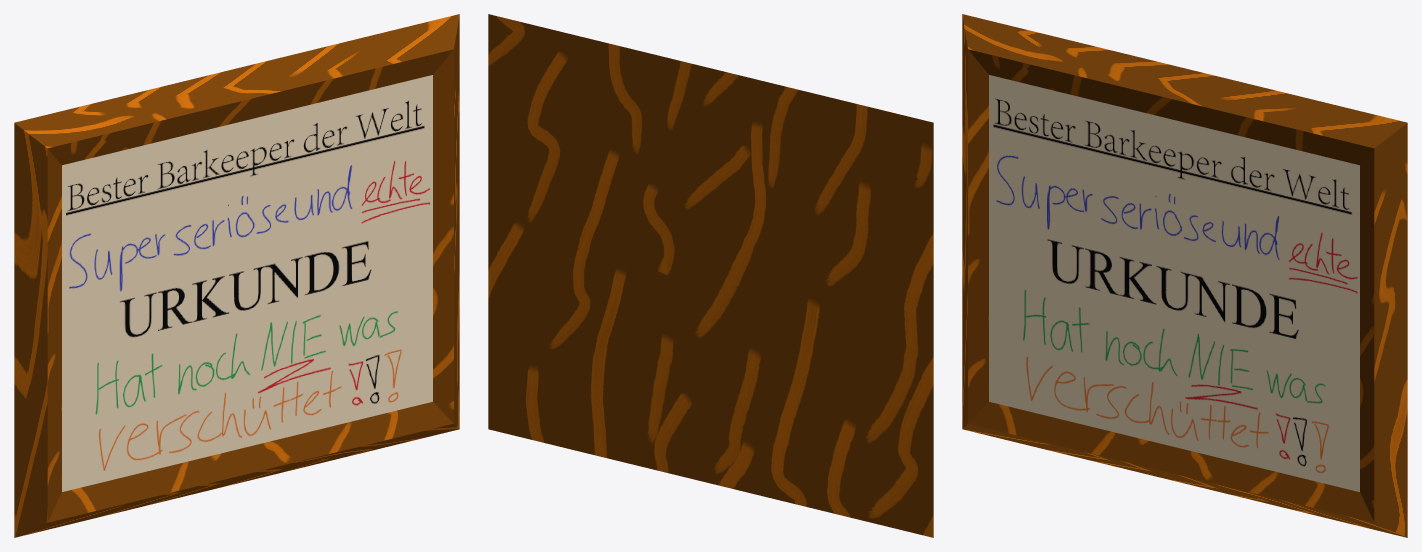
The model's file is Urkunde.fbx.
3 renders of one model, left to right at view 1: azimuth 30°, elevation 25°; view 2: azimuth 150°, elevation 25°; view 3: azimuth 330°, elevation 25°, orthographic.
Parts seen in each view (by area): view 1: urkunde; view 2: urkunde; view 3: urkunde.
Part boxes in pixels (x1,y1,x2,y2): urkunde: (14,14,459,537); urkunde: (488,14,933,537); urkunde: (962,14,1407,537).
Bounding box in the file's own units: 0.3311 × 0.2949 × 0.0177.
